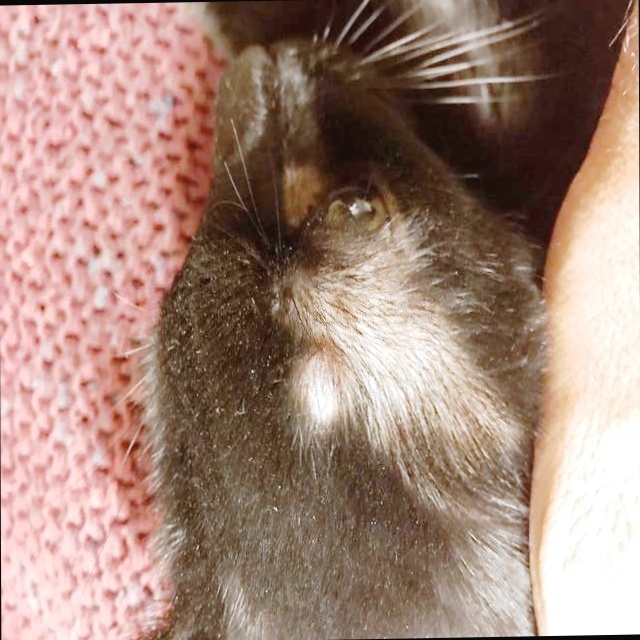lump_and_bump: (297, 358, 349, 422)
